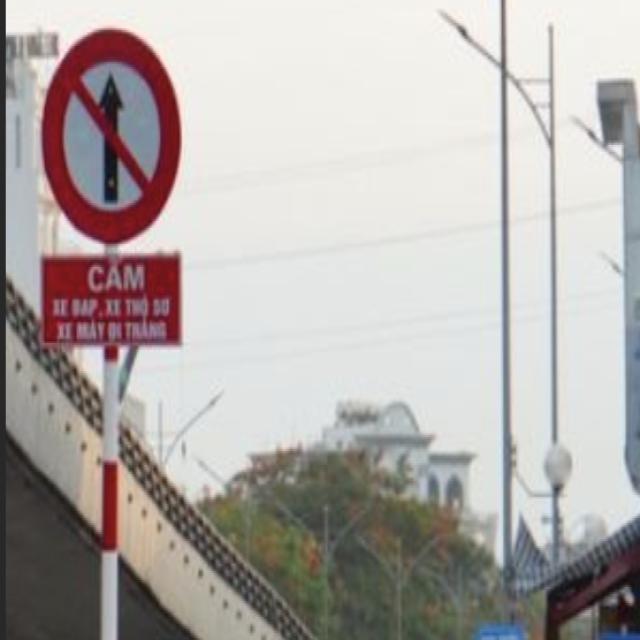136-cam-di-thang: (40, 26, 181, 244)
